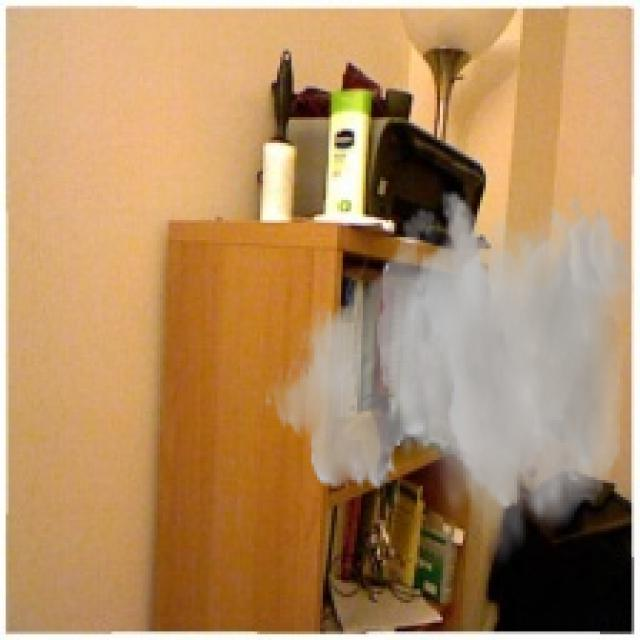smoke: (263, 188, 634, 572)
